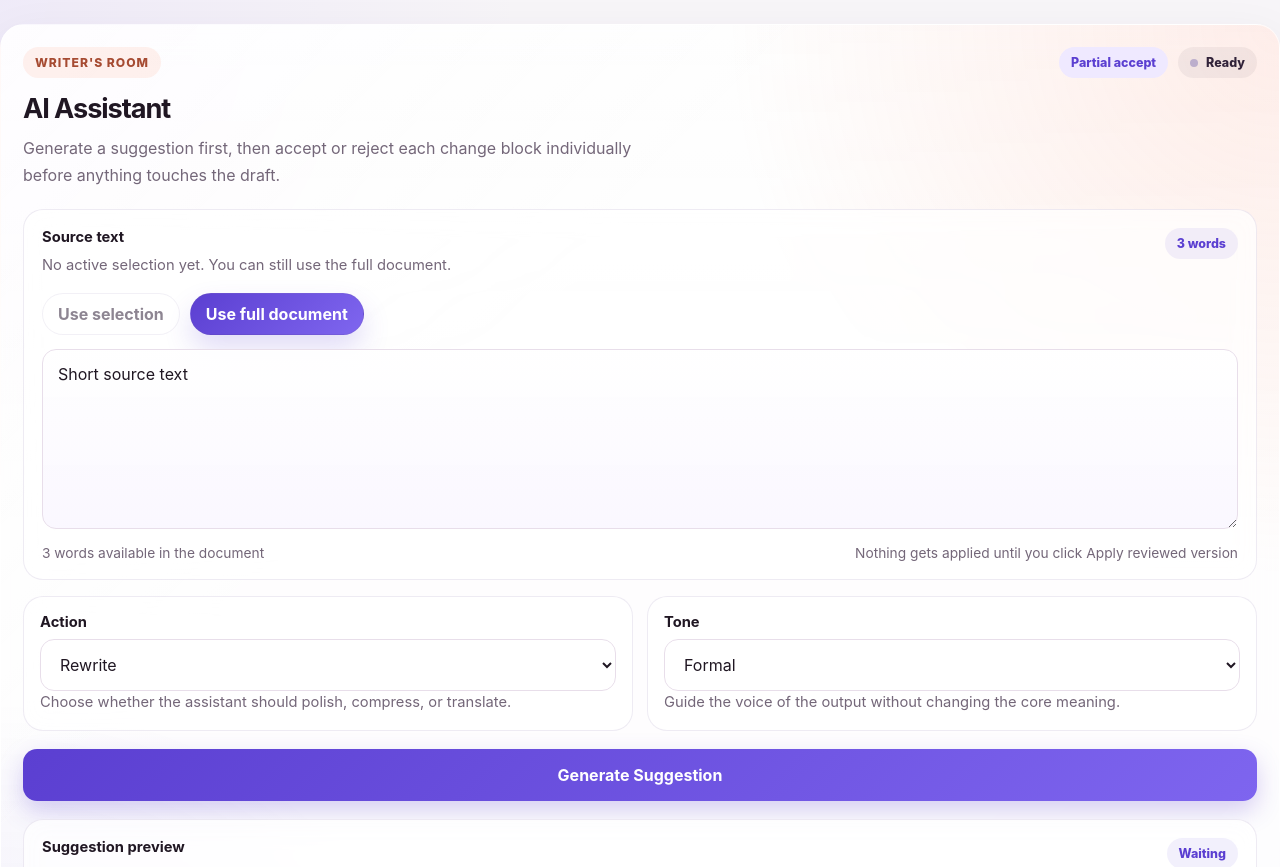
shows a clear error message when generation fails
Click the button "Generate Suggestion". click: (640, 775)
box: [23,749,1257,801]
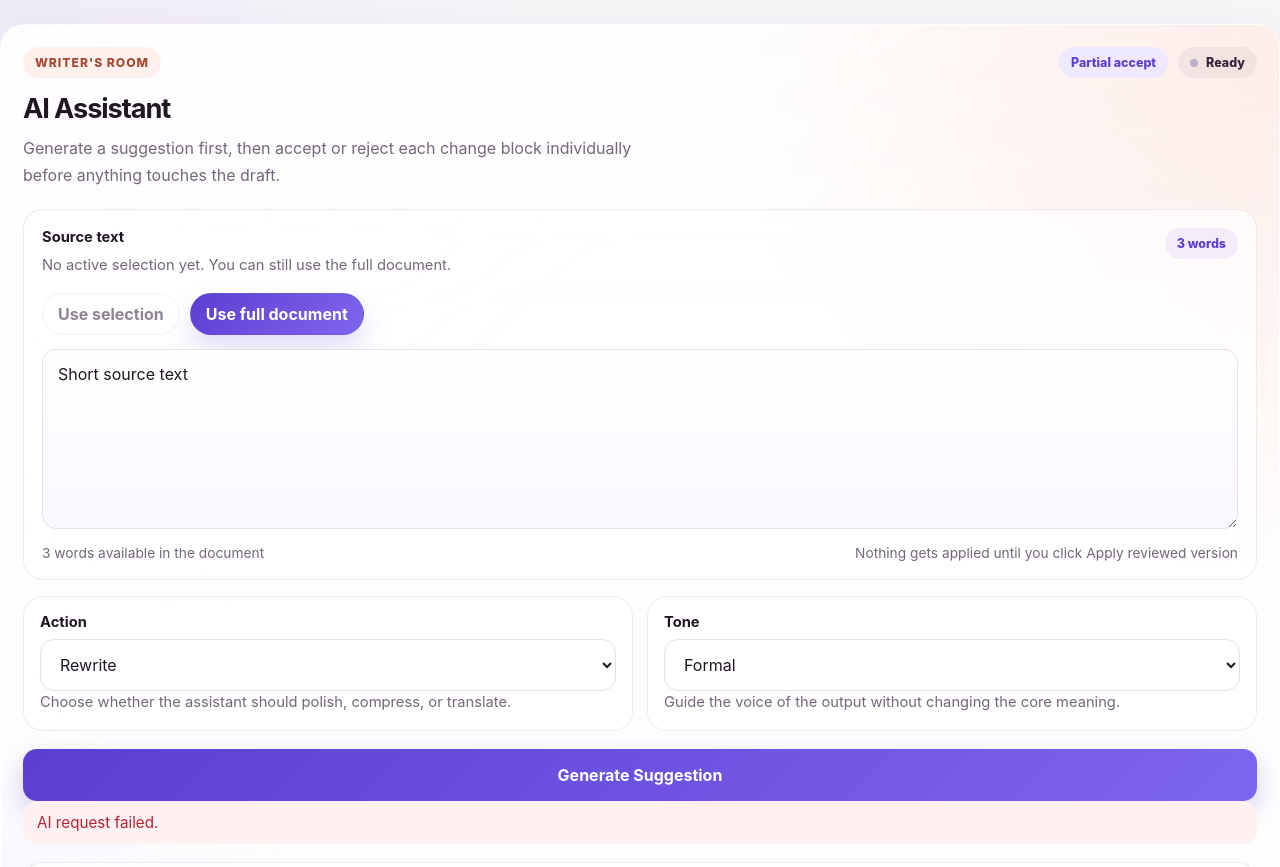
Expected: the text "AI request failed." is shown, [23,801,1257,844]
